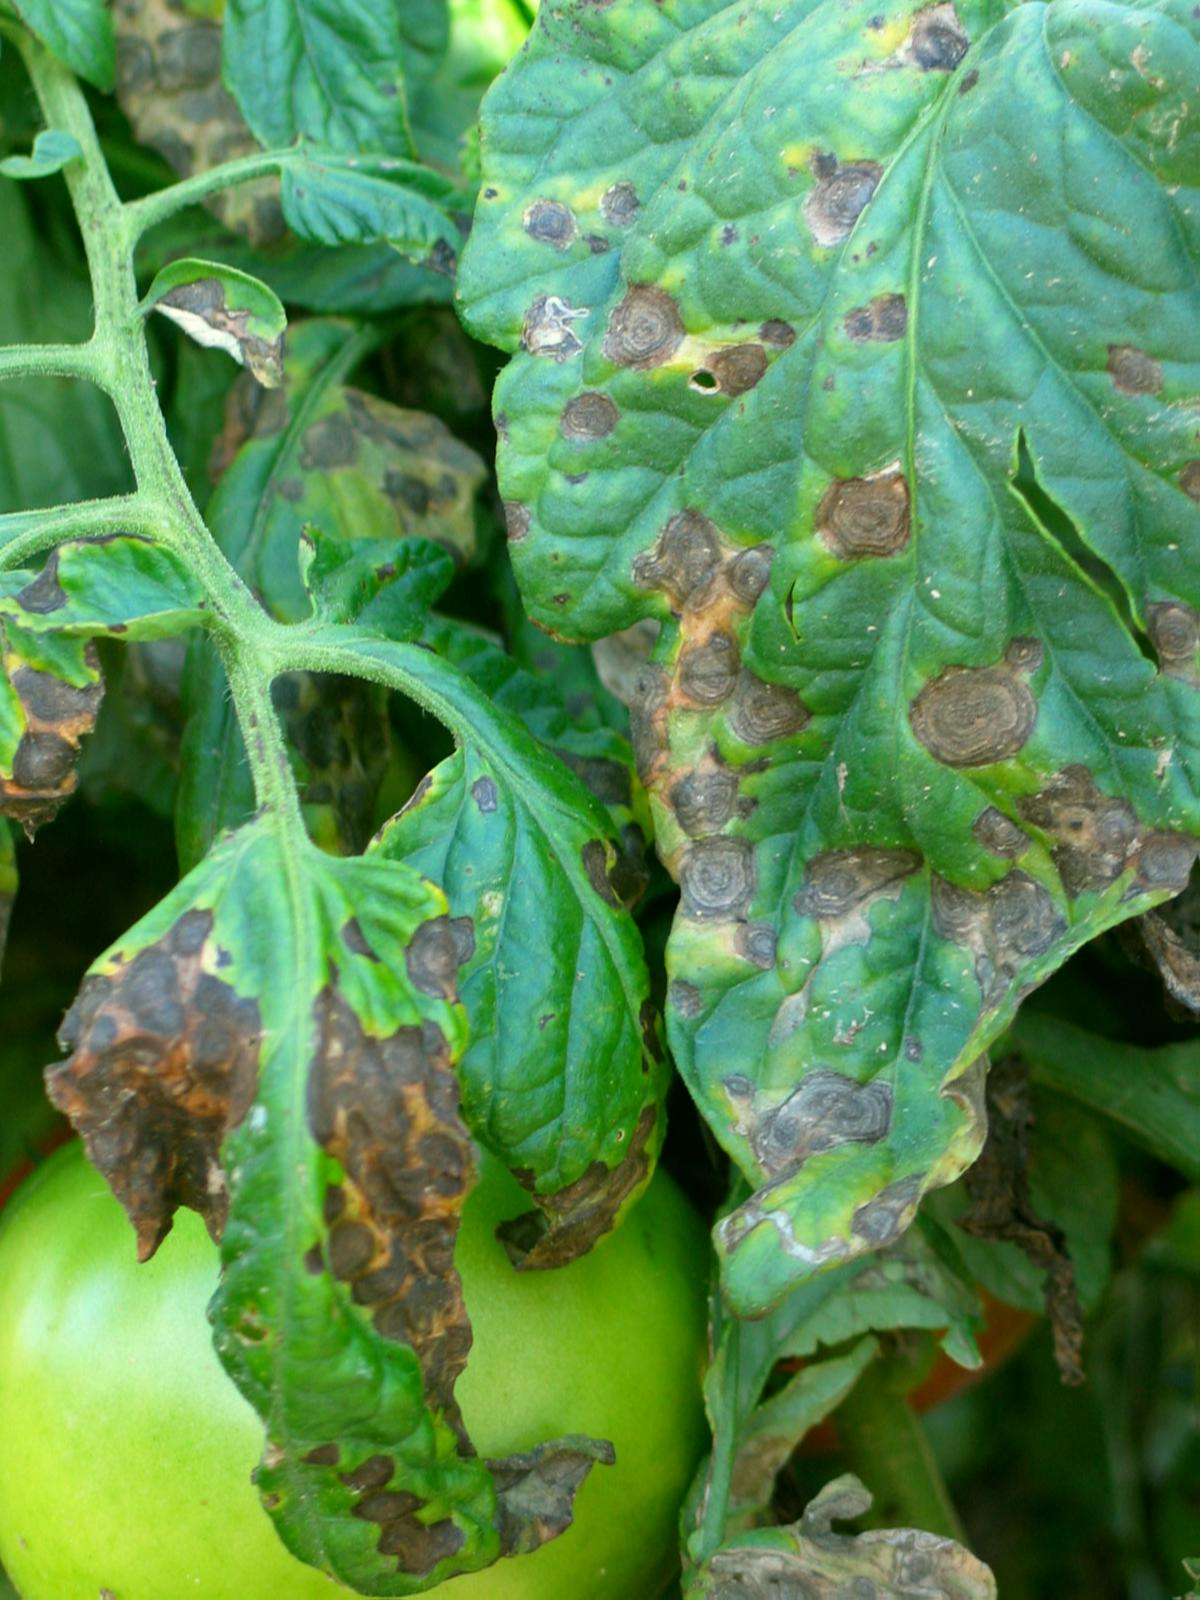Tomato Early blight leaf: (451, 19, 1160, 1293), (64, 819, 560, 1579), (424, 737, 711, 1305)
